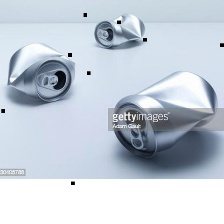can: (110, 68, 219, 158), (6, 39, 78, 104), (92, 12, 146, 50)
